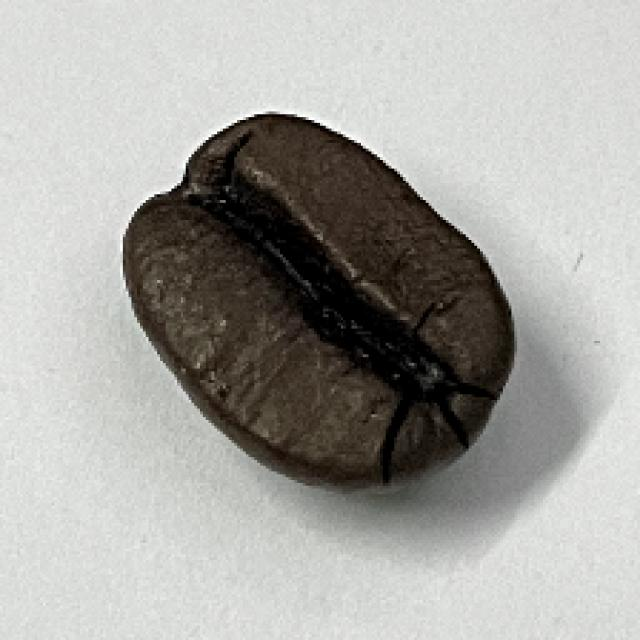bean: (115, 109, 518, 492)
